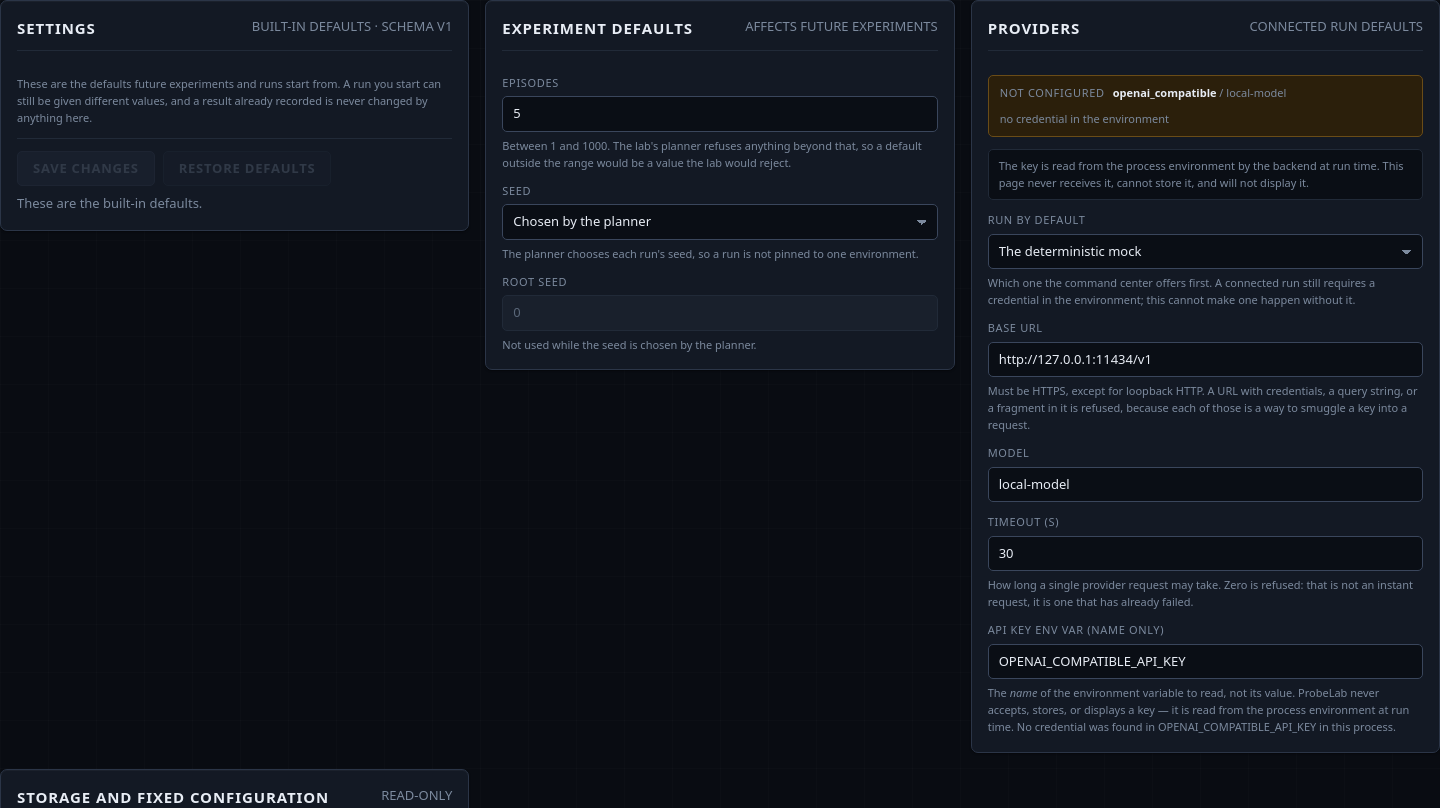
validation › marks only the offending field as invalid
The image size is (1440, 808).
Replace the text in the field labelled "BASE URL" with "http://example.com/v1" at (1205, 359), box [988,342,1423,377]
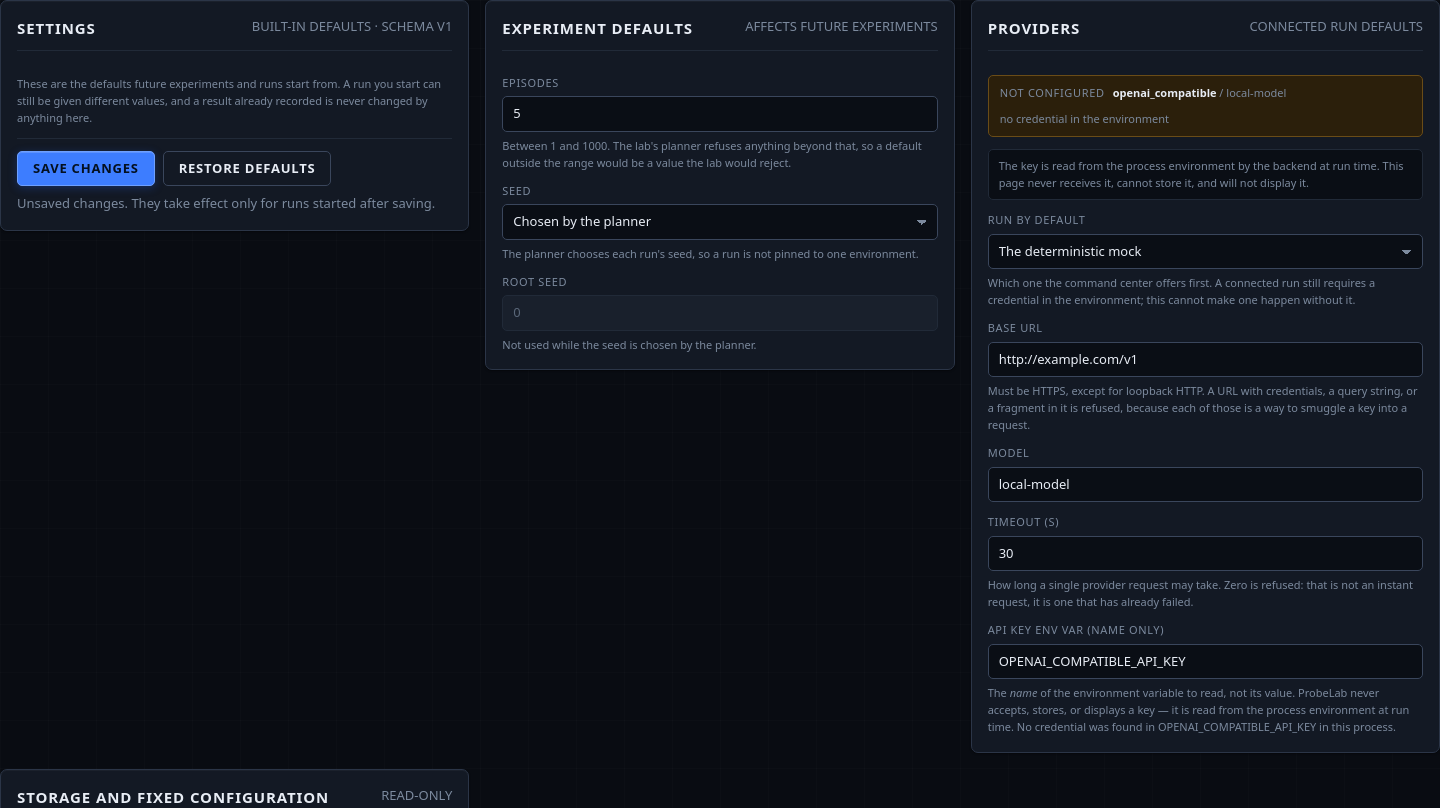
Click the button "SAVE CHANGES" at (86, 168), box [17,151,155,186]
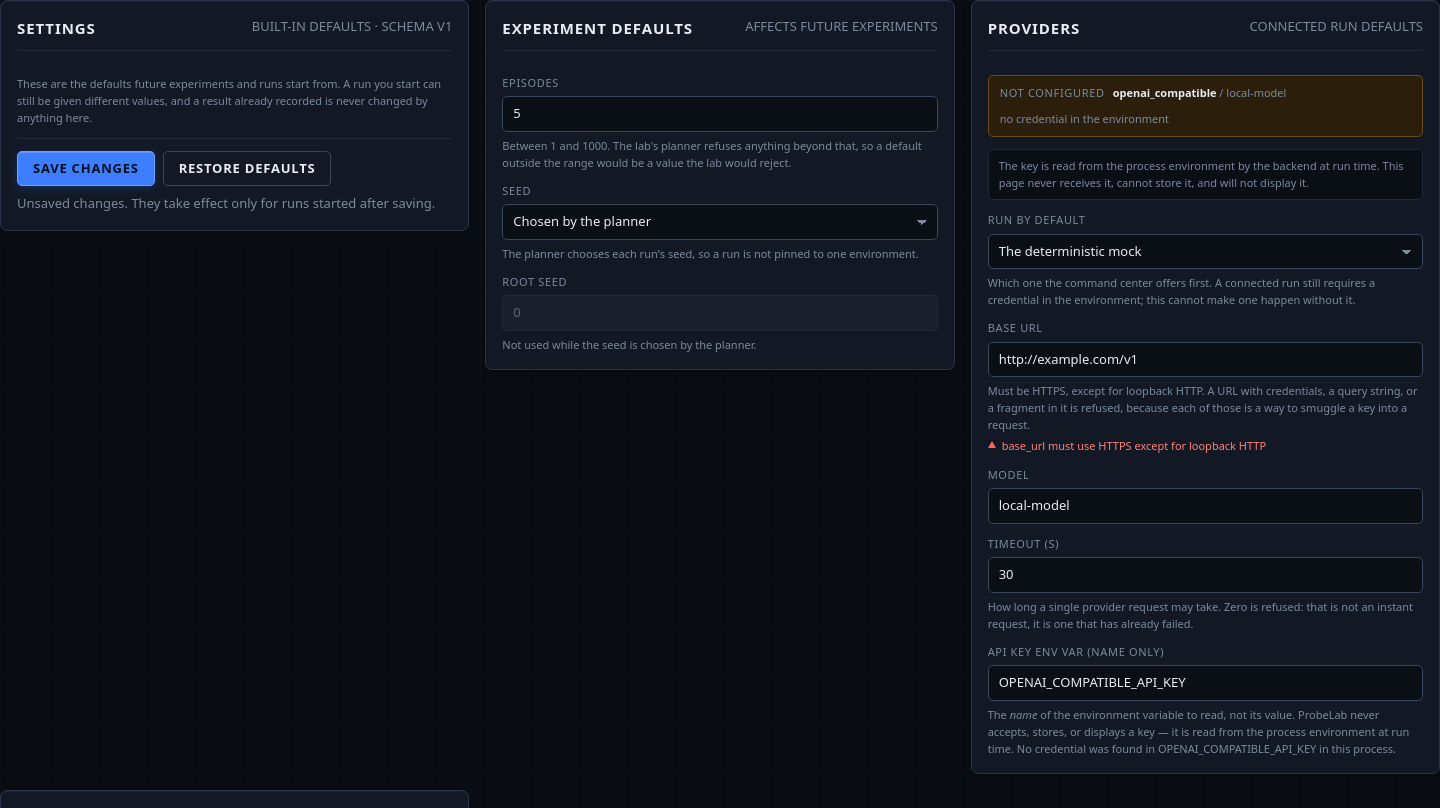
Expected: the text "base_url must use HTTPS except for loopback HTTP" is shown, [1002,438,1266,453]
